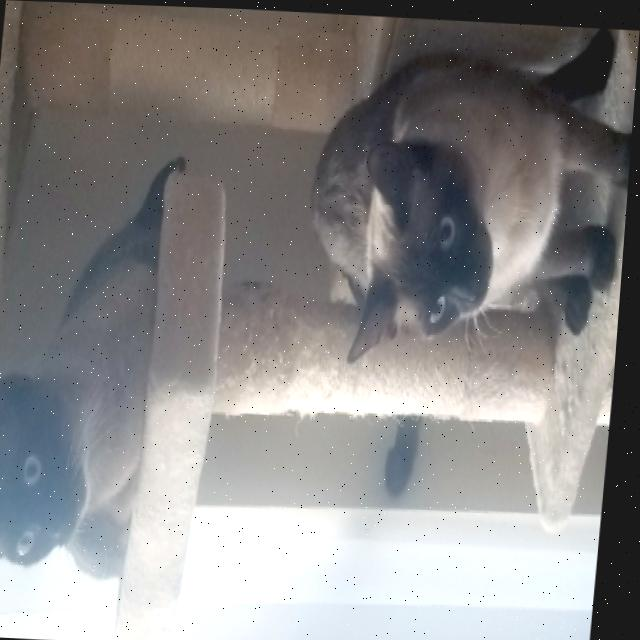Siamese: (293, 9, 640, 382), (0, 140, 193, 614)
